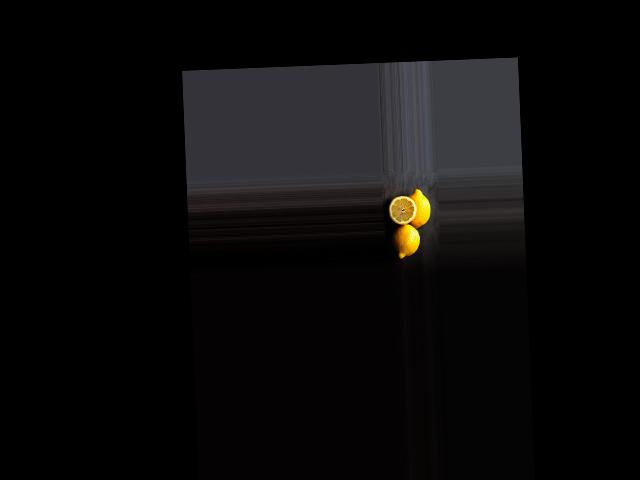lemon: (405, 186, 434, 229)
